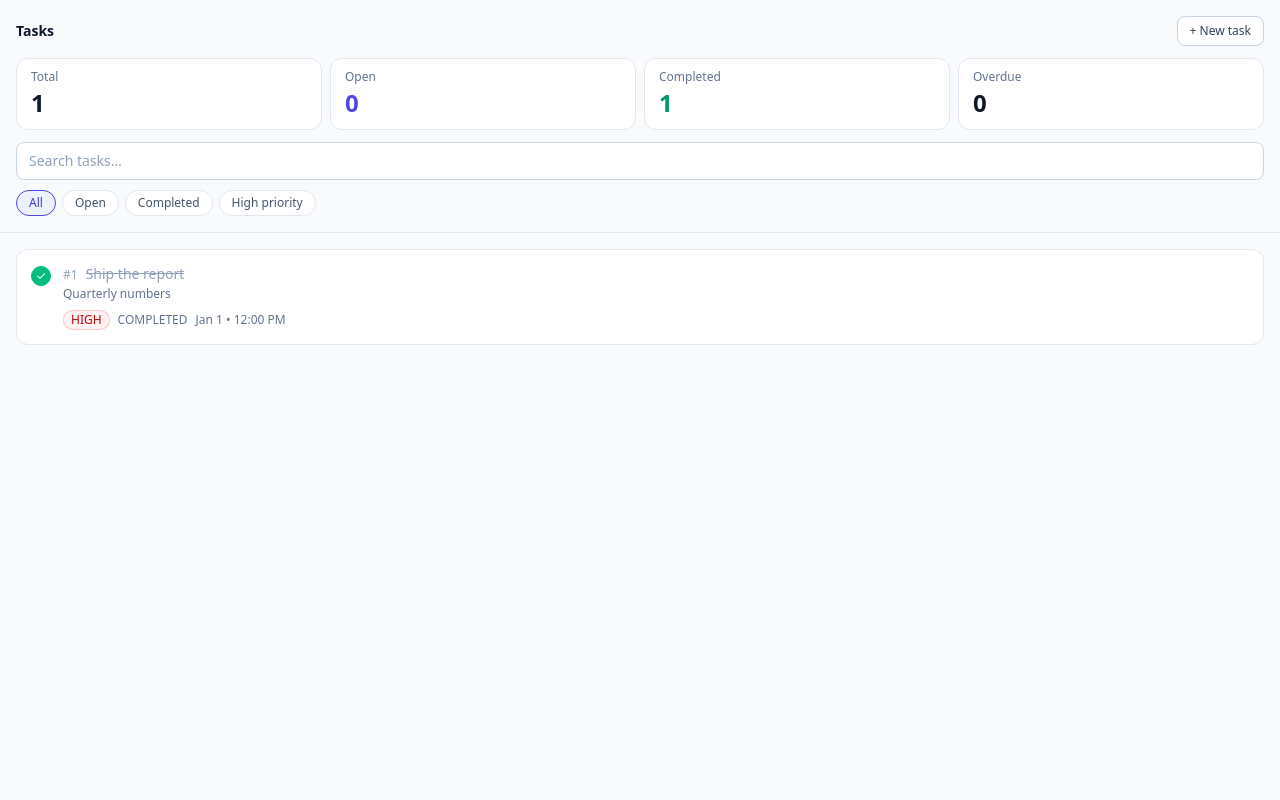
Scenario: task checkbox toggles complete <-> open › reopens a completed task and shows a success message after the server confirms
Click the checkbox named "Reopen task 1": (41, 276) [31,266,51,286]
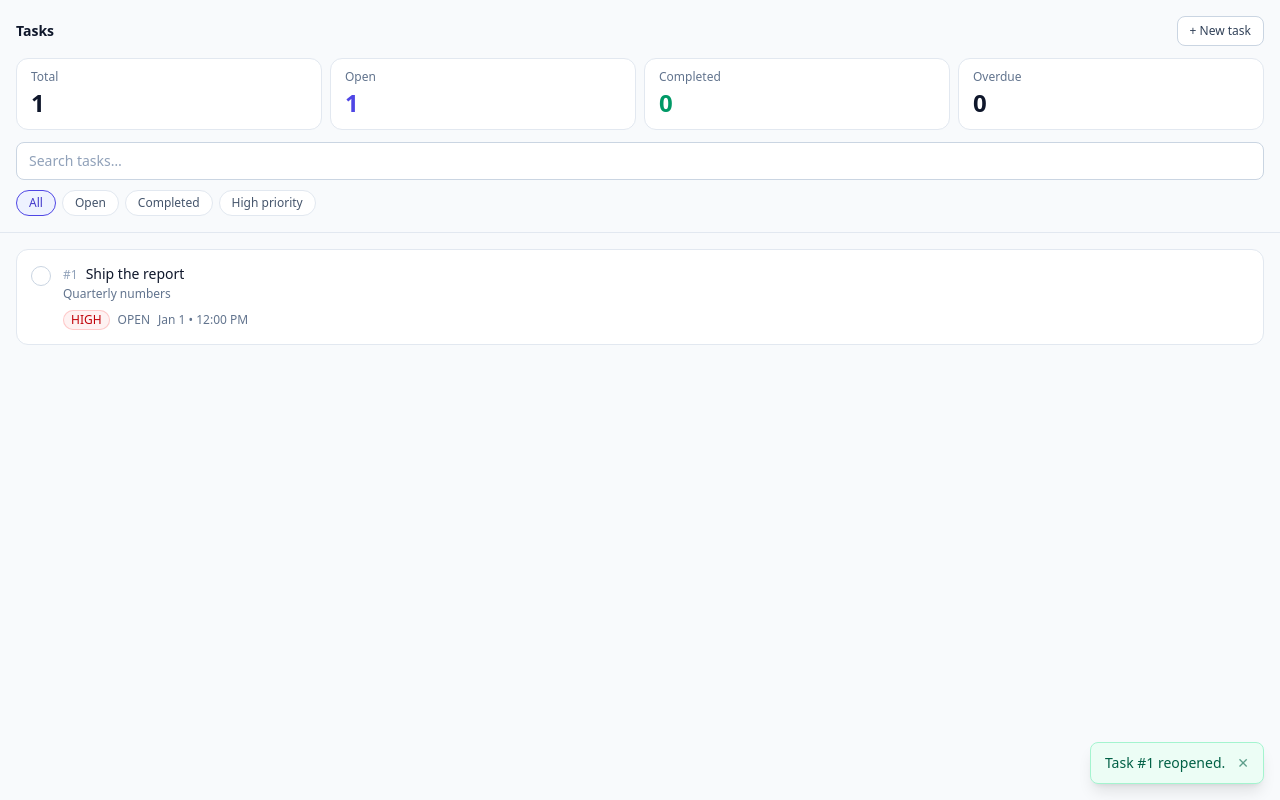
Expected: the heading "Ship the report" is shown, [86,264,184,284]
Now the checkbox named "Mark task 1 complete" is shown, box [31,266,51,286]
